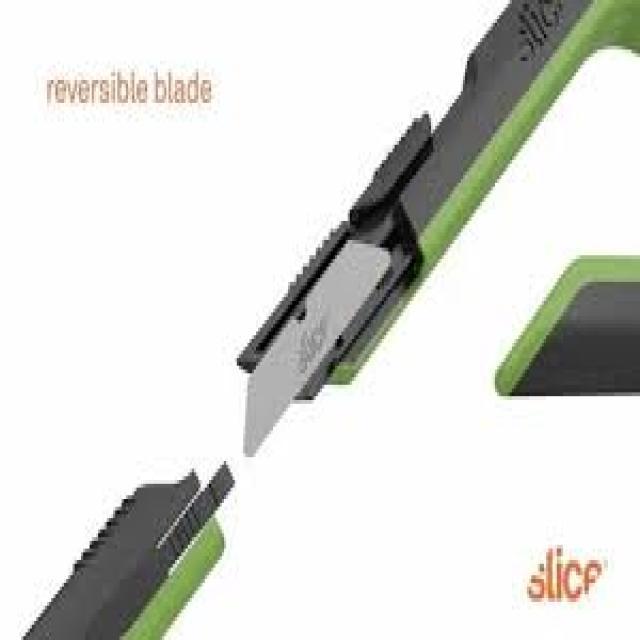estilete: (237, 0, 639, 456)
